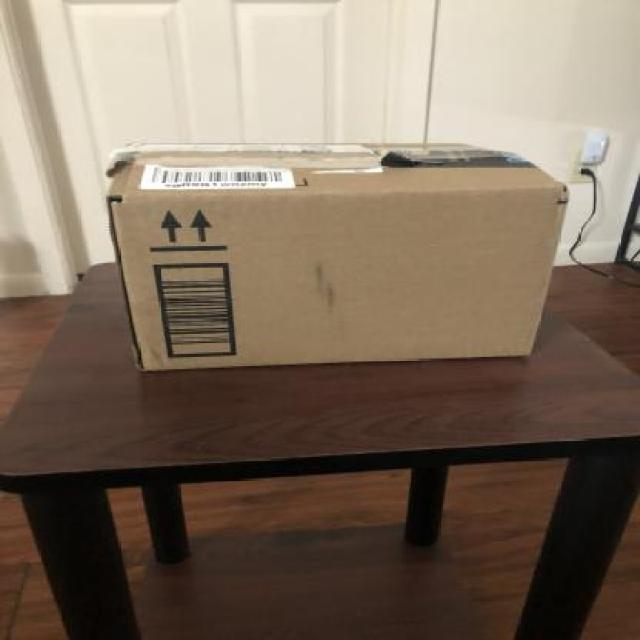obstacle: (104, 130, 581, 382)
